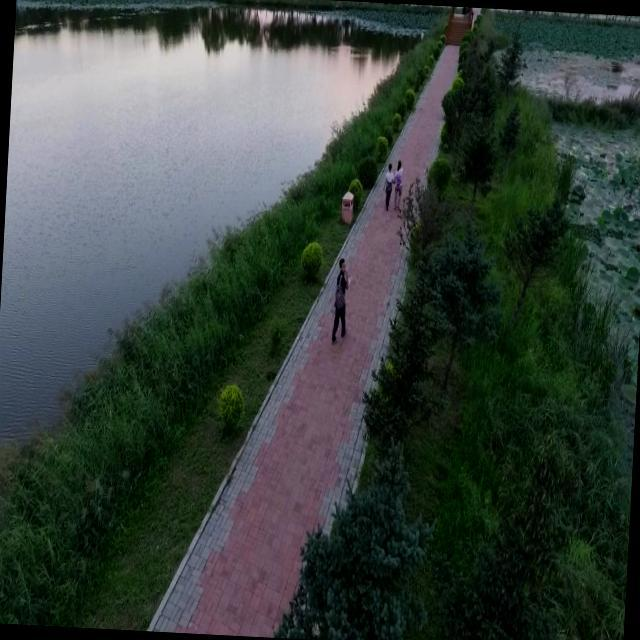person: (330, 257, 352, 344), (391, 158, 405, 210), (382, 162, 394, 210)
